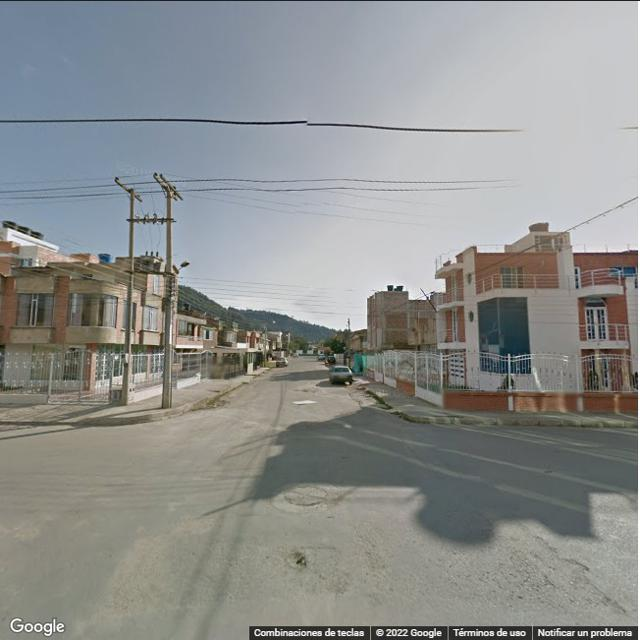D00: (577, 563, 630, 618), (530, 526, 558, 559)
D40: (279, 548, 315, 570)
